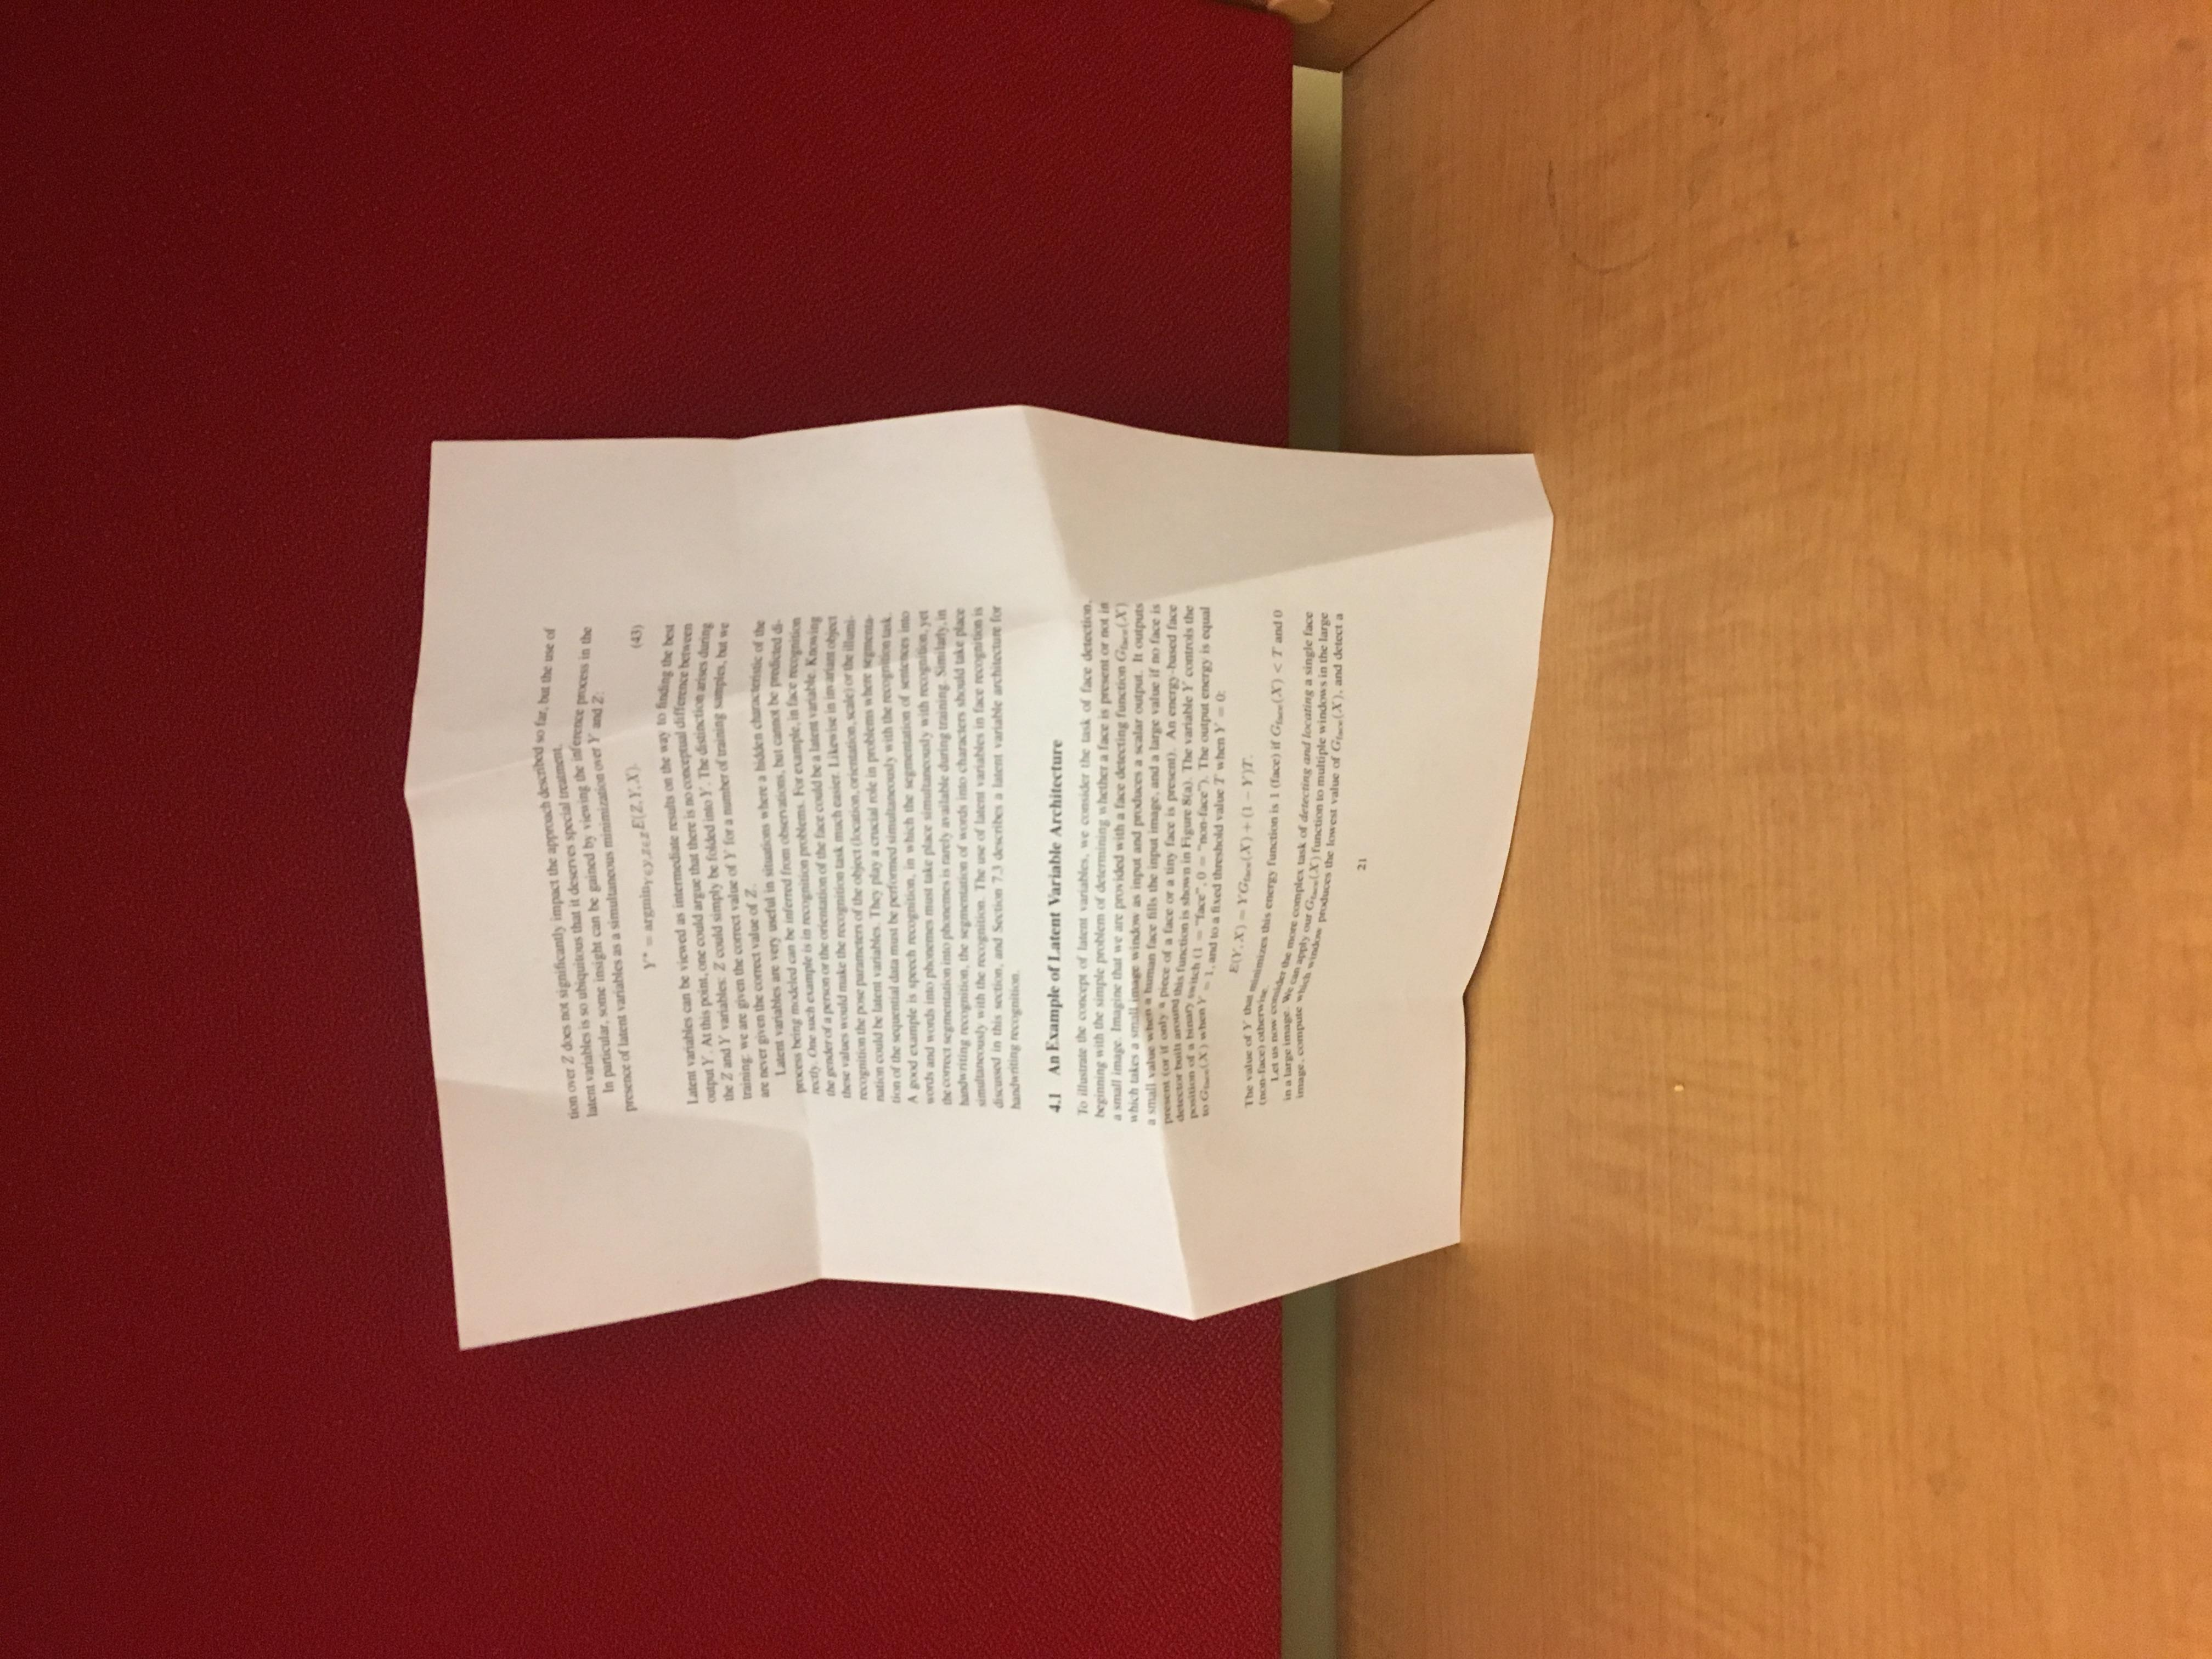paper: (139, 307, 1980, 1270)
